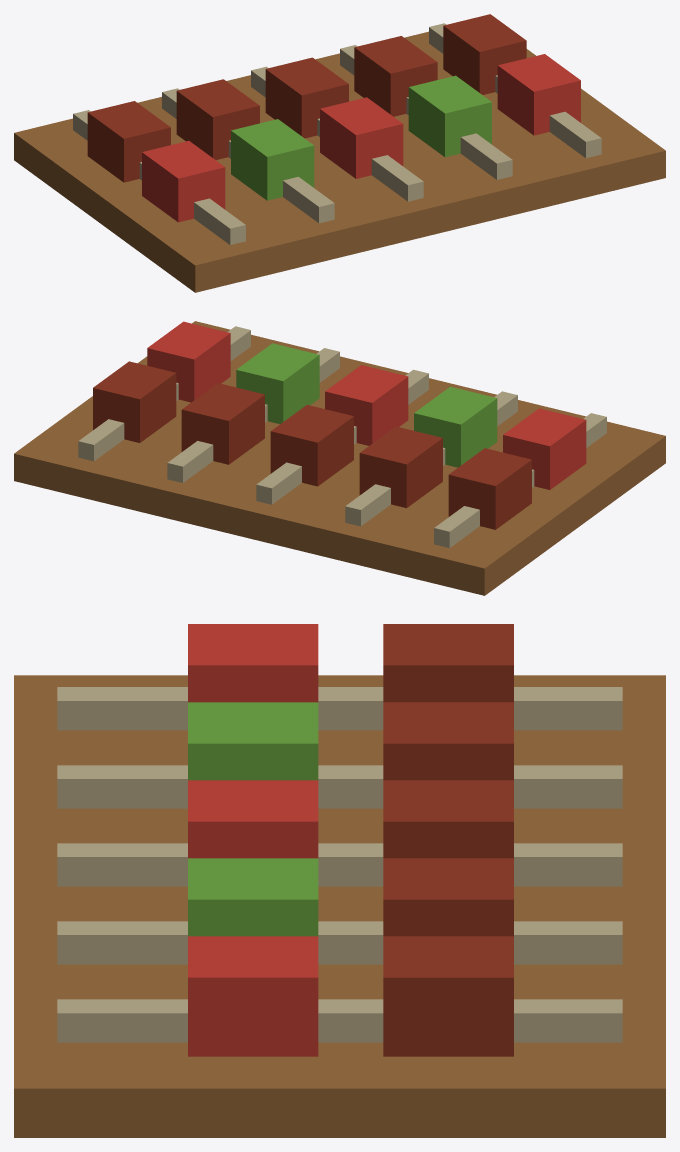
Rendered from cp-tray-skewers.glb.
3 renders of one model, top to bottom at view 1: azimuth 30°, elevation 25°; view 2: azimuth 150°, elevation 25°; view 3: azimuth 270°, elevation 25°, orthographic. The views are drawn at different scales.
Visible parts, largest first — view 1: box-prop; view 2: box-prop; view 3: box-prop.
Boxes of the visible parts, x1,y1,x2,y2 form: box-prop: [14, 14, 665, 292]; box-prop: [14, 321, 665, 595]; box-prop: [14, 624, 665, 1137].
Size of the model in its own units: 0.9 by 0.13 by 0.6.
